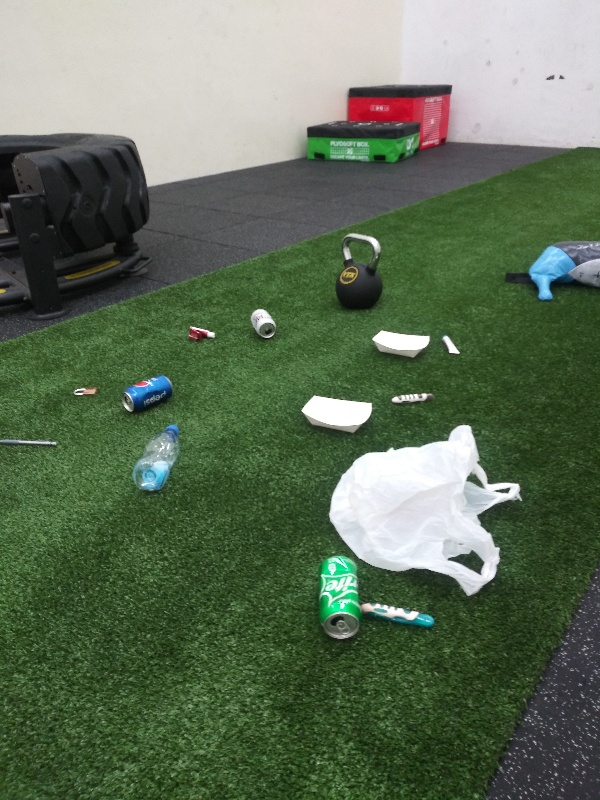bottle: (124, 421, 185, 494)
can: (315, 550, 367, 644), (118, 371, 175, 416), (242, 304, 283, 343)
plate: (296, 392, 377, 439), (368, 328, 434, 363)
